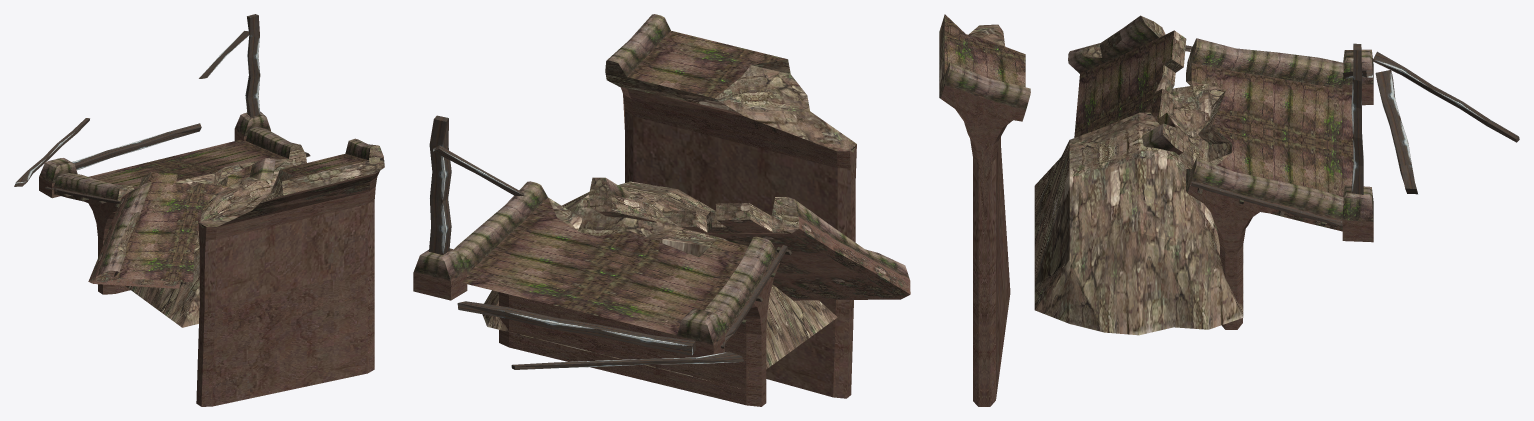
File: C1SMBRIDGERUBBLE01.obj
3 renders of one model, left to right at view 1: azimuth 30°, elevation 25°; view 2: azimuth 150°, elevation 25°; view 3: azimuth 270°, elevation 25°, orthographic. The views are drawn at different scales.
Visible parts, largest first — view 1: Node 0; view 2: Node 0; view 3: Node 0.
Part boxes in pixels (bbox=[...]): Node 0: bbox=[14, 14, 384, 406]; Node 0: bbox=[413, 14, 910, 406]; Node 0: bbox=[939, 14, 1519, 406].
Bounding box in the file's own units: 23.35 × 19.85 × 28.38.
Materials: 4 (4 with a texture image).
